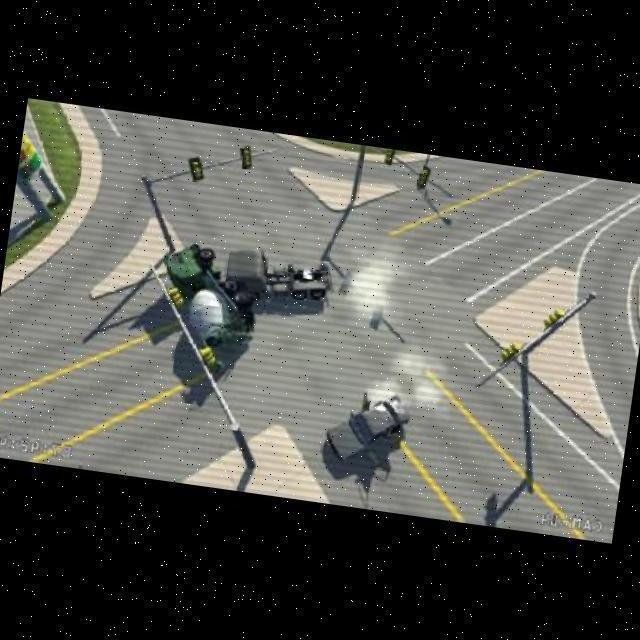accident: (155, 238, 338, 350)
